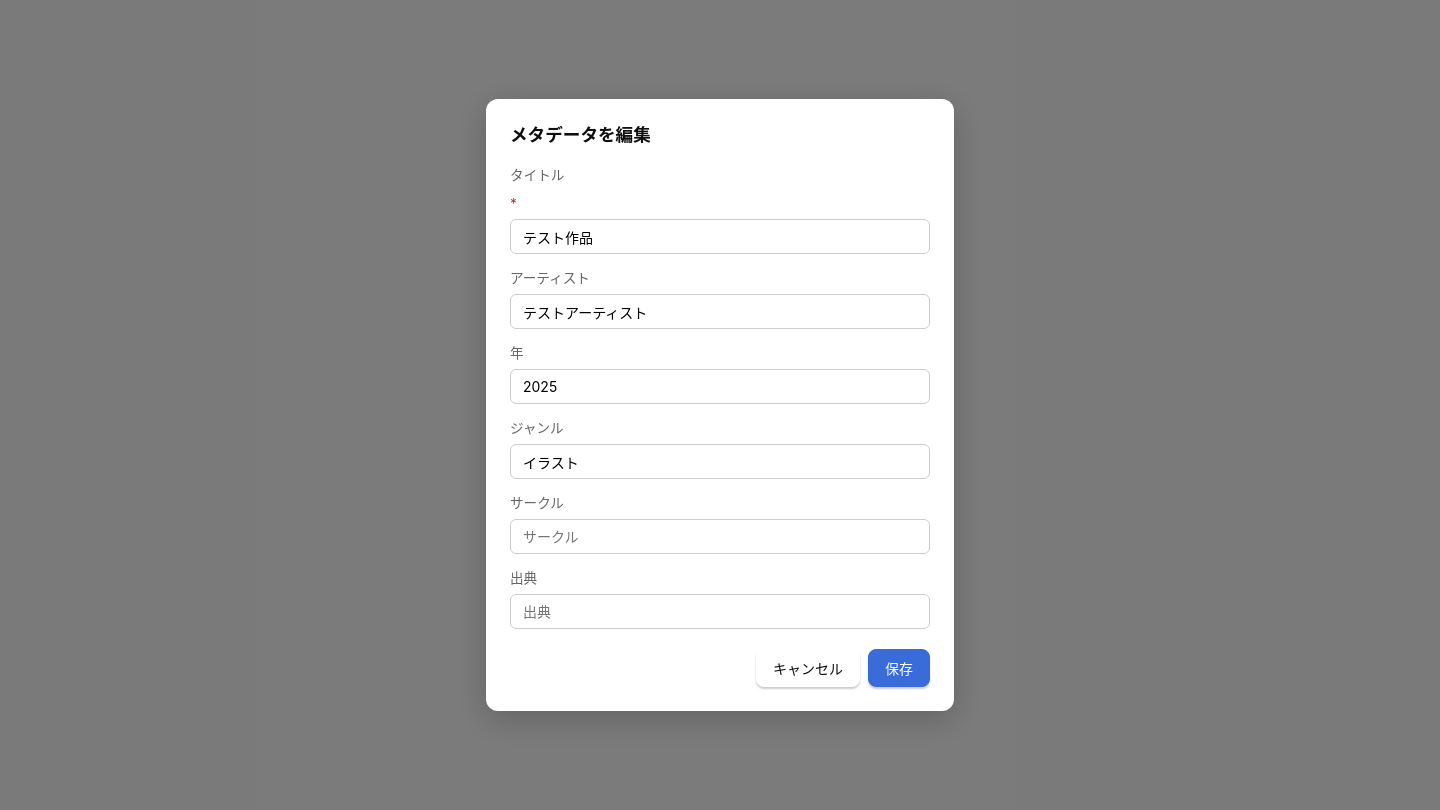
Scenario: EditWorkDialog コンポーネント › タイトルが空の場合は保存ボタンが無効になる
Step 1. Clear the field with placeholder "タイトル" → (720, 236), box [510, 219, 930, 254]
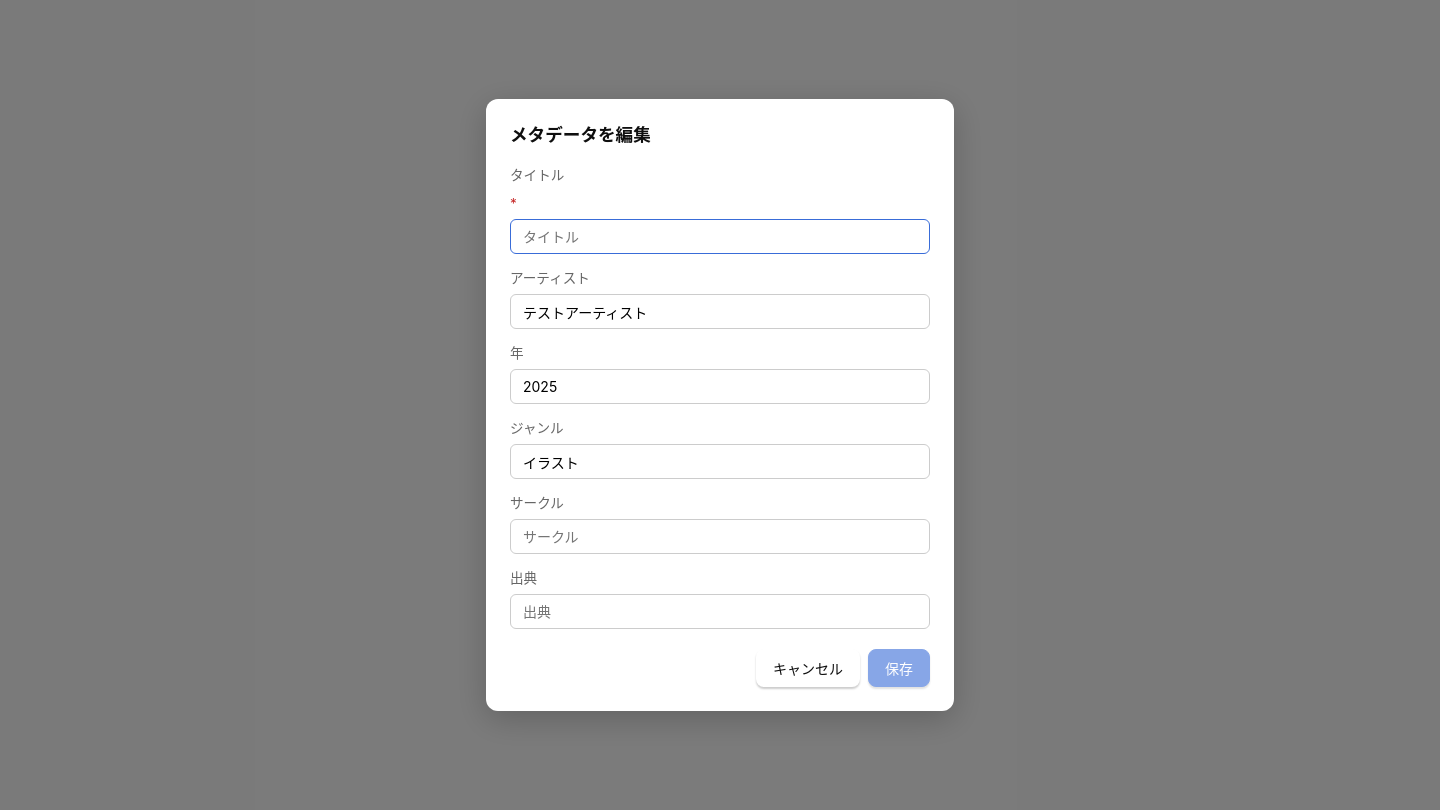
expect the button "保存" is disabled: met, box [868, 649, 930, 687]
